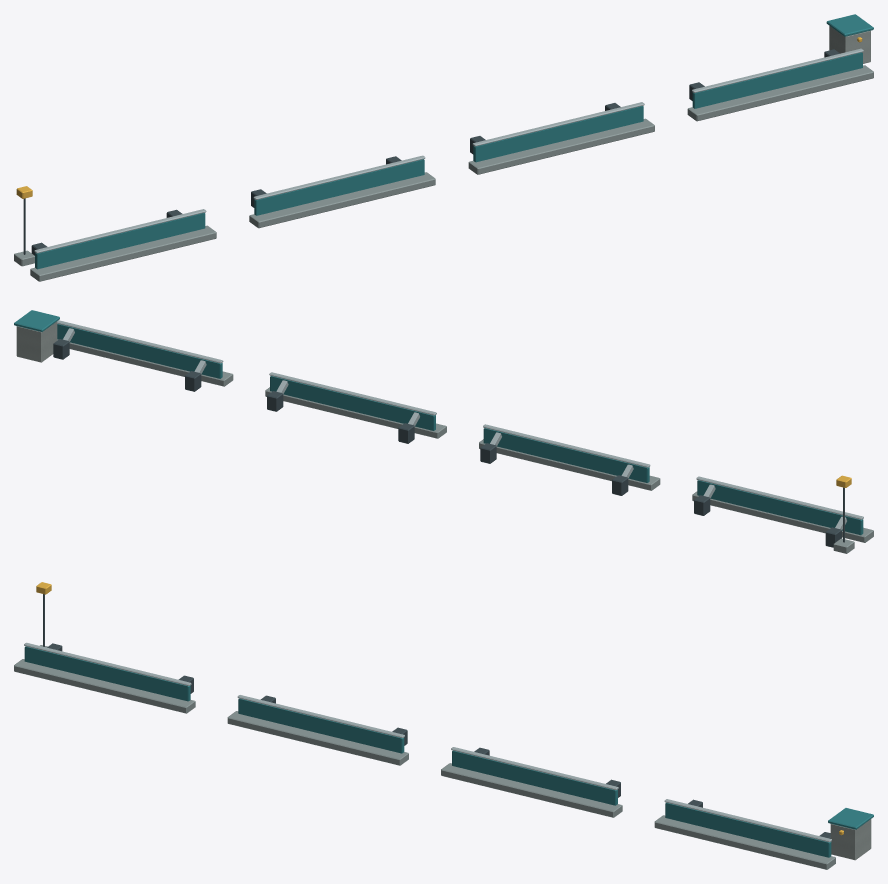
The model's file is AutomaticSpillway_Upgrade_LOD0.fbx.
3 renders of one model, top to bottom at view 1: azimuth 30°, elevation 25°; view 2: azimuth 150°, elevation 25°; view 3: azimuth 330°, elevation 25°, orthographic. The views are drawn at different scales.
Visible parts, largest first — view 1: AutomaticSpillway_Upgrade_LOD0; view 2: AutomaticSpillway_Upgrade_LOD0; view 3: AutomaticSpillway_Upgrade_LOD0.
Part boxes in pixels (left/top/right/bottom): AutomaticSpillway_Upgrade_LOD0: left=14, top=14, right=873, bottom=281; AutomaticSpillway_Upgrade_LOD0: left=14, top=310, right=873, bottom=553; AutomaticSpillway_Upgrade_LOD0: left=14, top=582, right=873, bottom=869.
Bounding box in the file's own units: 7175 × 600 × 490.
Materials: 6 (1 with a texture image).
